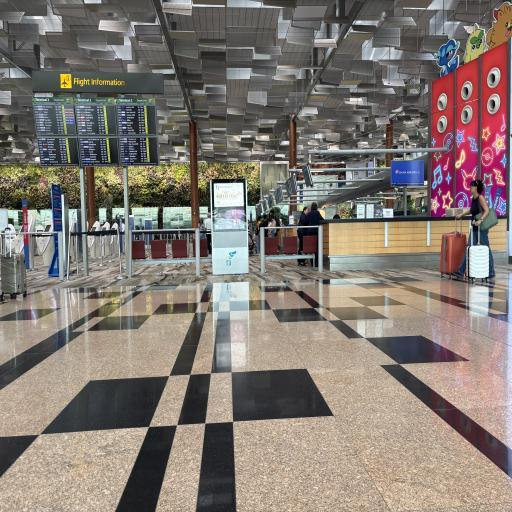person_with_luggage_left: (439, 164, 499, 292)
